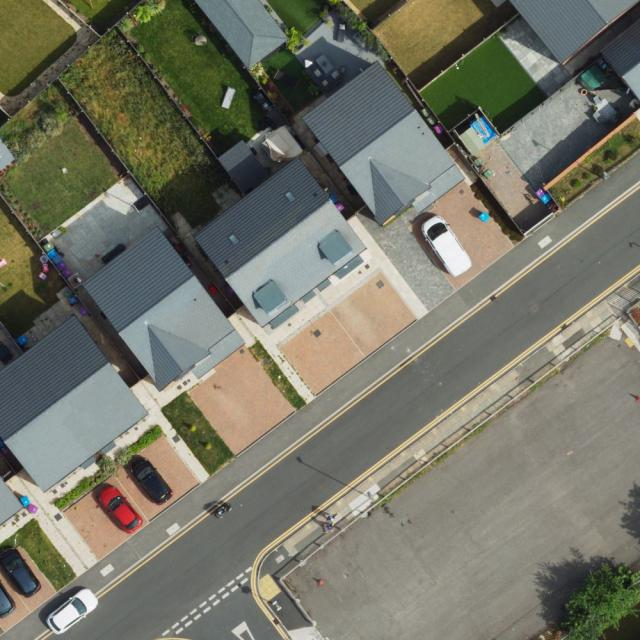roof: (194, 157, 369, 327), (304, 58, 467, 226), (86, 226, 247, 394), (1, 317, 148, 493), (508, 0, 640, 65), (191, 0, 290, 69), (600, 16, 640, 104), (0, 477, 24, 527)
skylight: (225, 230, 241, 247), (283, 188, 297, 203)
